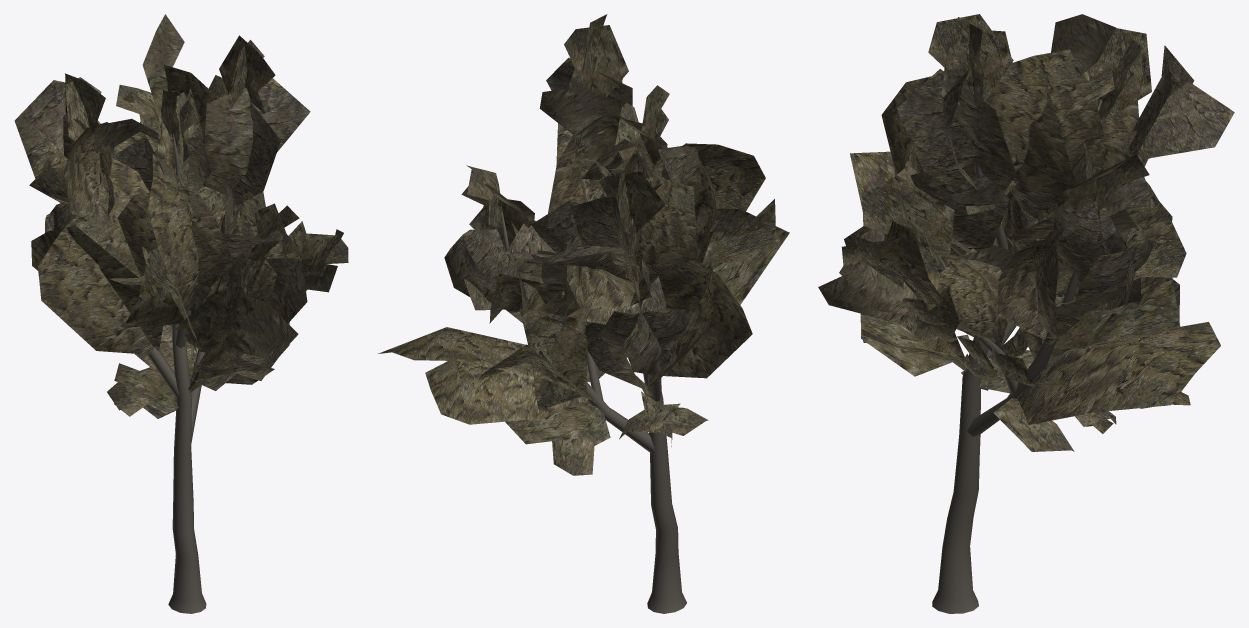
The model's file is arbol2.fbx.
3 views of the same model, side by side, from view 1: azimuth 30°, elevation 25°; view 2: azimuth 150°, elevation 25°; view 3: azimuth 270°, elevation 25° (orthographic). The views are drawn at different scales.
Parts seen in each view (by area): view 1: Foliage_Trees_02; view 2: Foliage_Trees_02; view 3: Foliage_Trees_02.
Boxes of the visible parts, x1,y1,x2,y2 form: Foliage_Trees_02: (14,14,348,613); Foliage_Trees_02: (378,14,789,613); Foliage_Trees_02: (818,14,1234,613).
Bounding box in the file's own units: 325 × 574 × 346.
